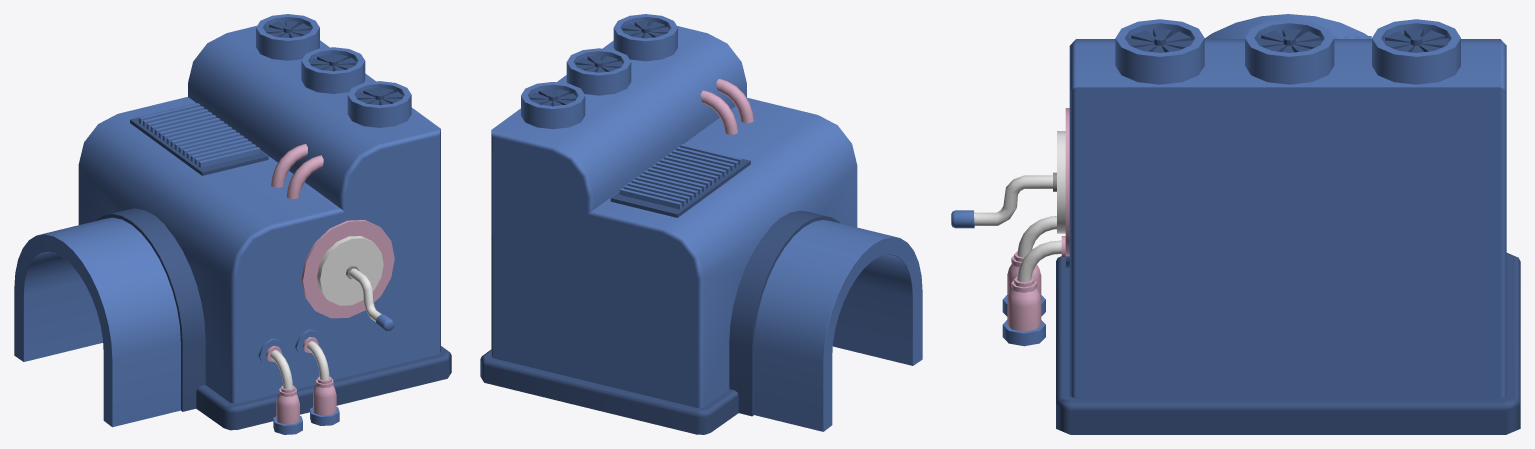
Rendered from Factory_1 1.fbx.
The picture shows the model from 3 angles, left to right: view 1: azimuth 30°, elevation 25°; view 2: azimuth 150°, elevation 25°; view 3: azimuth 270°, elevation 25°; orthographic projection. The views are drawn at different scales.
Parts seen in each view (by area): view 1: SM_Factory_1, vent_3, vent_2, vent_1; view 2: SM_Factory_1, vent_2, vent_1, vent_3; view 3: SM_Factory_1, vent_2, vent_3, vent_1.
Boxes of the visible parts, box(x1,y1,x2,y2) form: SM_Factory_1: box(14, 14, 451, 434); vent_3: box(264, 21, 311, 37); vent_2: box(310, 54, 357, 71); vent_1: box(356, 88, 403, 105); SM_Factory_1: box(480, 14, 922, 434); vent_2: box(575, 55, 622, 72); vent_1: box(622, 21, 669, 38); vent_3: box(529, 89, 576, 106); SM_Factory_1: box(951, 14, 1520, 434); vent_2: box(1257, 29, 1322, 52); vent_3: box(1383, 29, 1449, 52); vent_1: box(1127, 29, 1193, 52).
Size of the model in its own units: 4.34 by 3.53 by 4.93.
